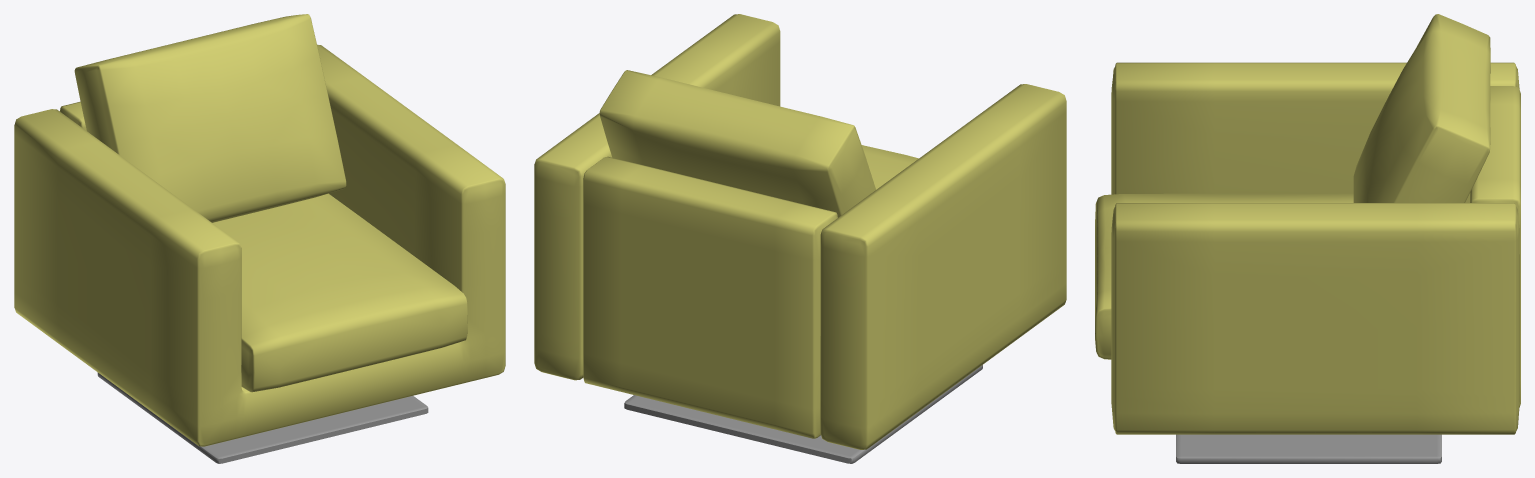
Rendered from House_Sofa_01.FBX.
3 renders of one model, left to right at view 1: azimuth 30°, elevation 25°; view 2: azimuth 150°, elevation 25°; view 3: azimuth 270°, elevation 25°, orthographic. The views are drawn at different scales.
Visible parts, largest first — view 1: House_Sofa_01_Basis, House_Sofa_01_Metal; view 2: House_Sofa_01_Basis, House_Sofa_01_Metal; view 3: House_Sofa_01_Basis, House_Sofa_01_Metal.
Boxes of the visible parts, x1,y1,x2,y2 form: House_Sofa_01_Basis: [14, 14, 505, 446]; House_Sofa_01_Metal: [97, 372, 428, 463]; House_Sofa_01_Basis: [534, 14, 1066, 449]; House_Sofa_01_Metal: [624, 365, 982, 463]; House_Sofa_01_Basis: [1095, 14, 1520, 434]; House_Sofa_01_Metal: [1176, 434, 1441, 463].
Bounding box in the file's own units: 92.65 × 88.47 × 101.
